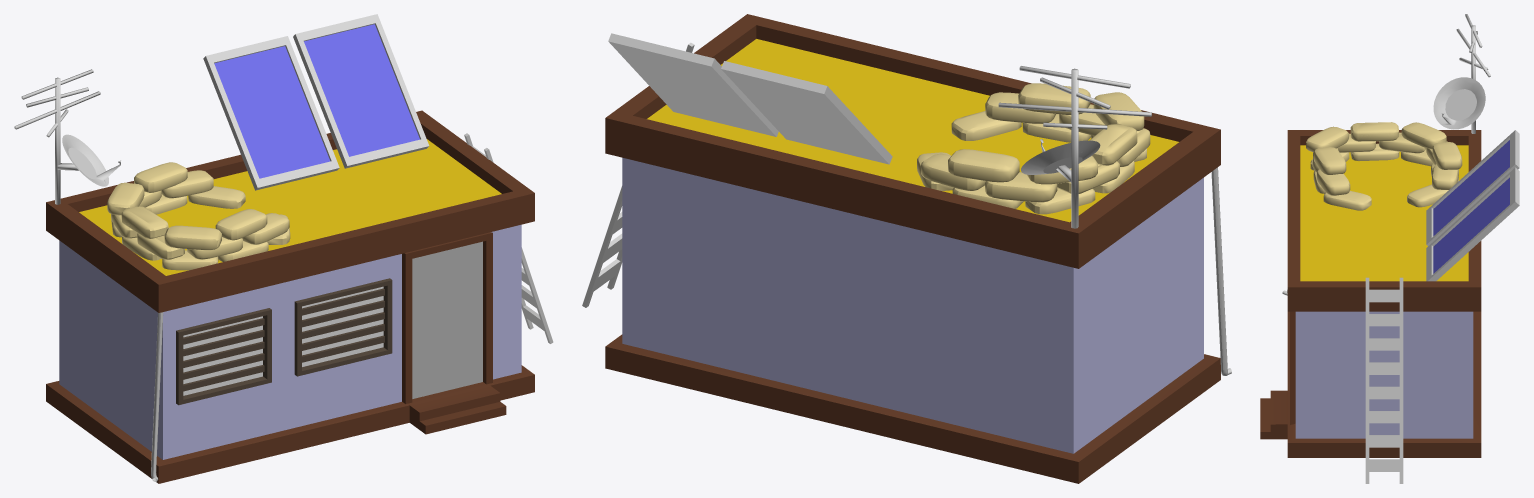
3 views of the same model, side by side, from view 1: azimuth 30°, elevation 25°; view 2: azimuth 150°, elevation 25°; view 3: azimuth 270°, elevation 25° (orthographic). The views are drawn at different scales.
Parts seen in each view (by area): view 1: house; view 2: house; view 3: house.
Boxes of the visible parts, x1=… form: house: x1=14, y1=14, x2=553, y2=483; house: x1=582, y1=14, x2=1231, y2=483; house: x1=1260, y1=14, x2=1519, y2=483.
Size of the model in its own units: 540 by 345 by 292.
